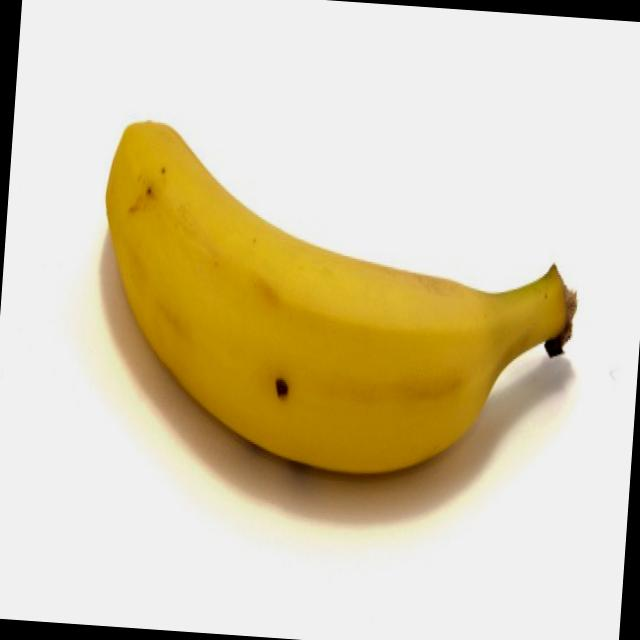banana: (78, 104, 591, 532)
